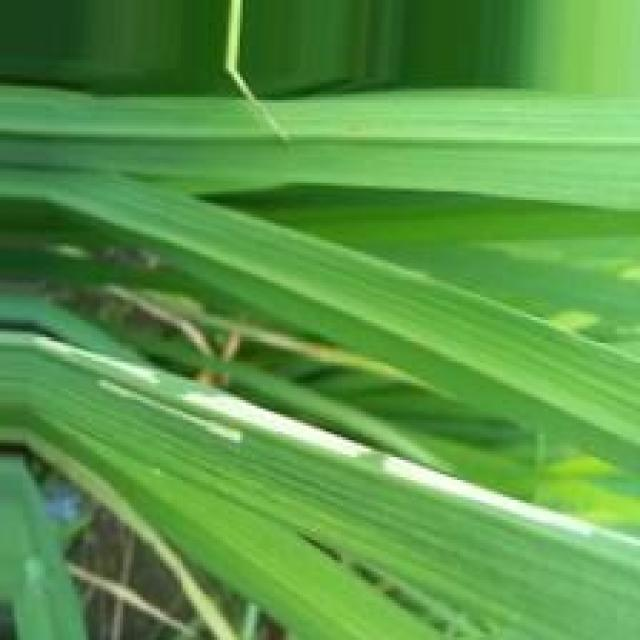Rice_Hispa: (177, 397, 636, 553), (98, 381, 246, 448), (38, 336, 162, 387)
